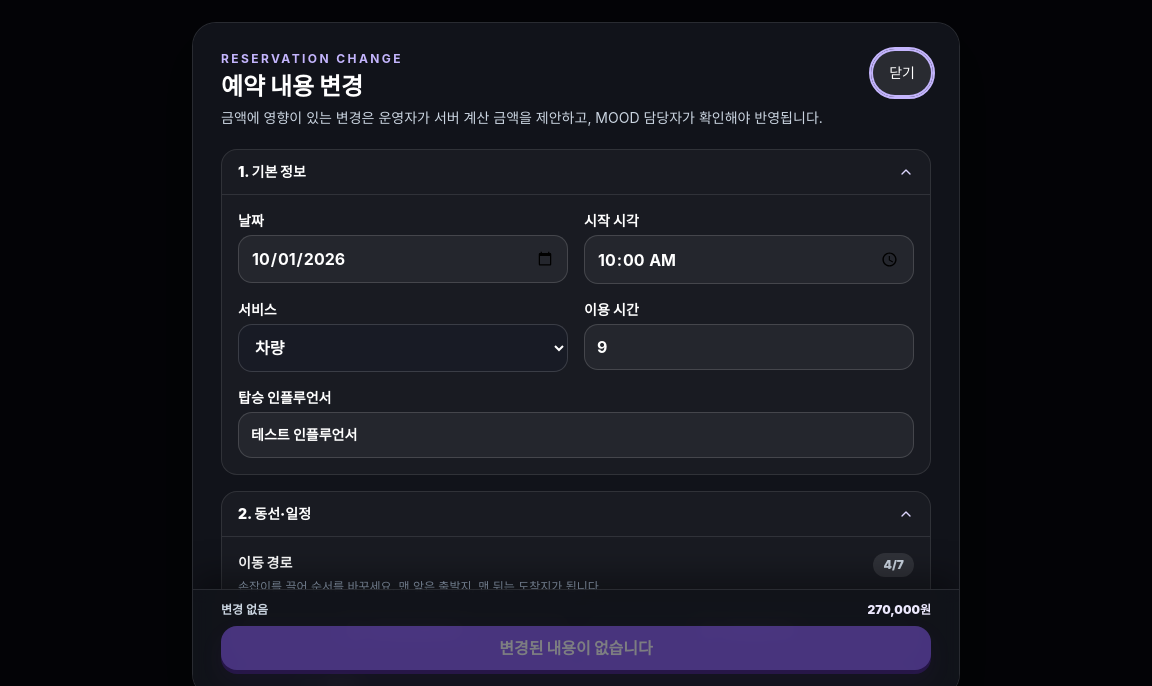
Test: MoodBookingChangeModal 경로 순서 편집 › 이용 시간을 비운 채 포커스를 옮기면 마지막 안전값을 복원한다
Clear the number field labelled "이용 시간": coordinates (749, 347) [584, 324, 914, 370]
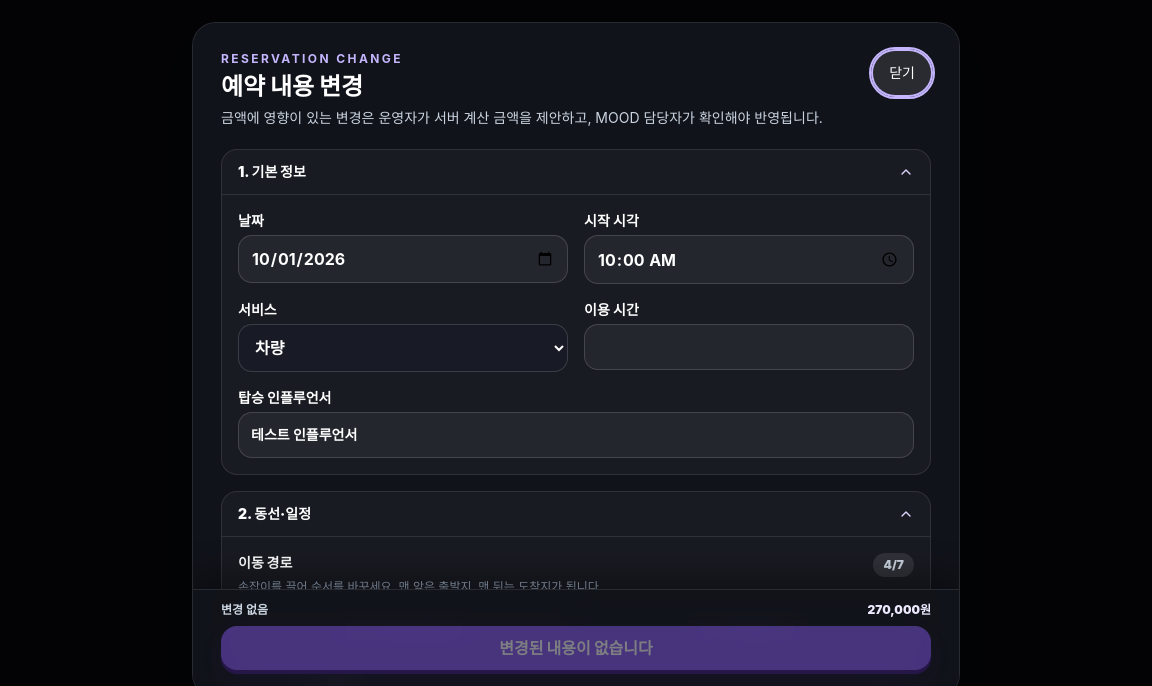
Leave the number field labelled "이용 시간", box [584, 324, 914, 370]
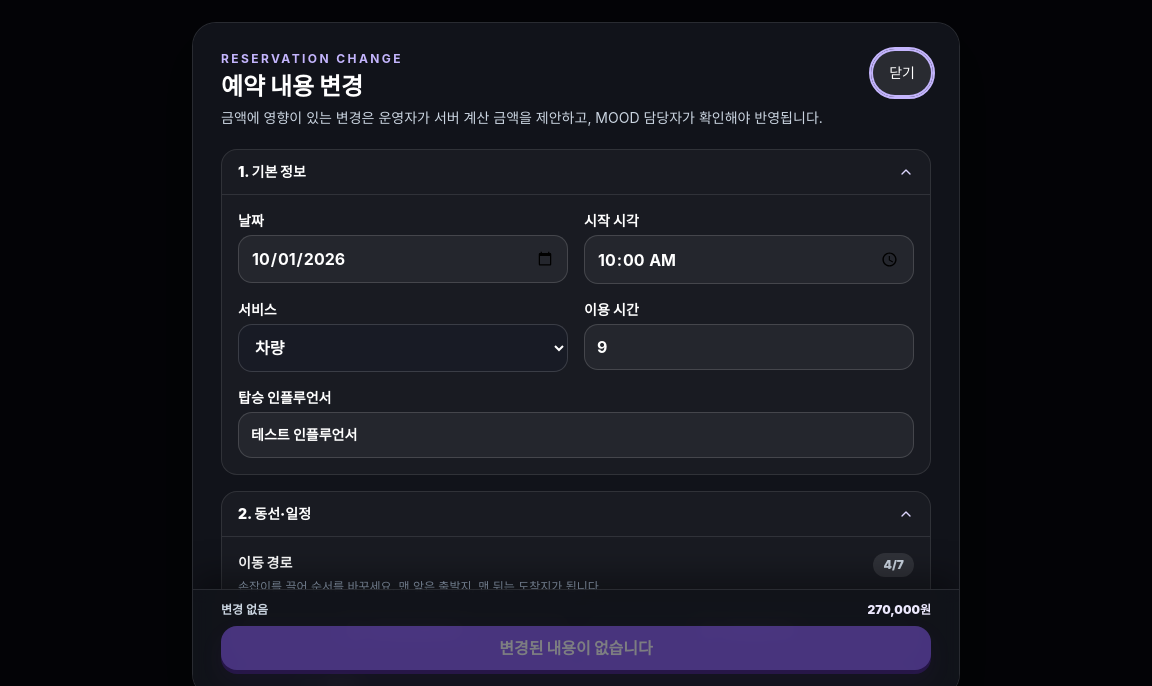
Expected: the number field labelled "이용 시간" holds "9", [584, 324, 914, 370]
